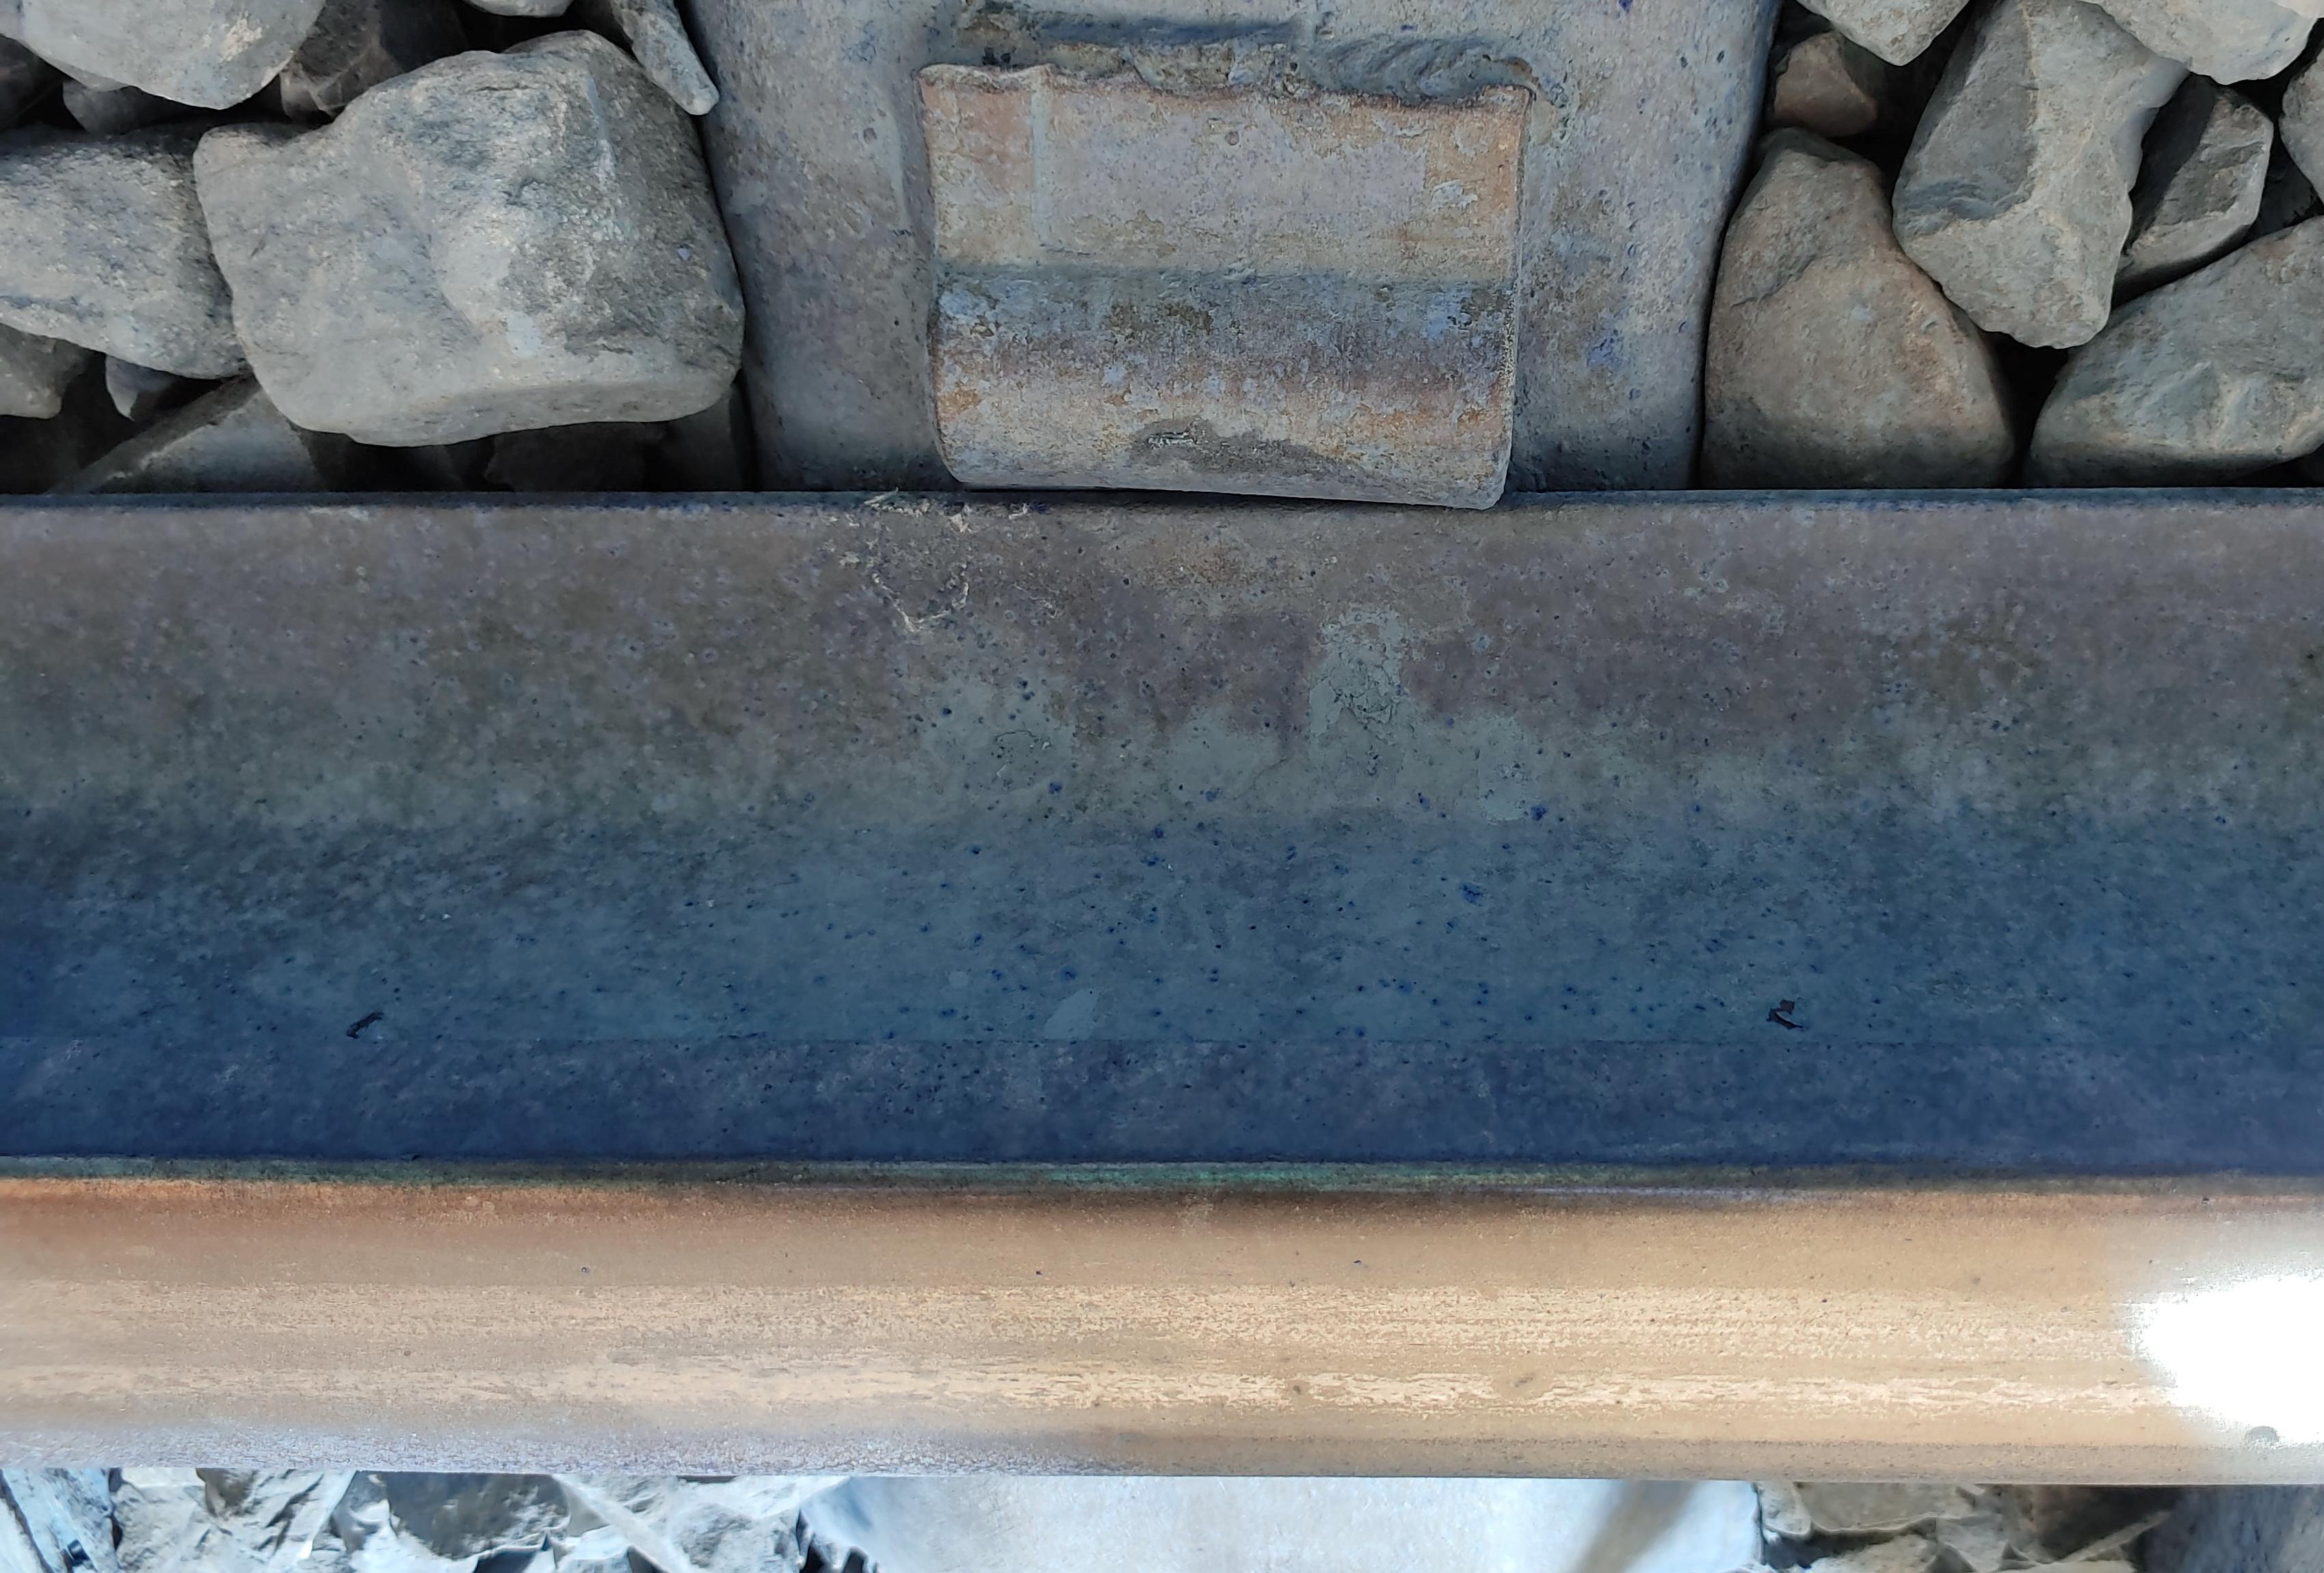error1: (862, 21, 1622, 548)
